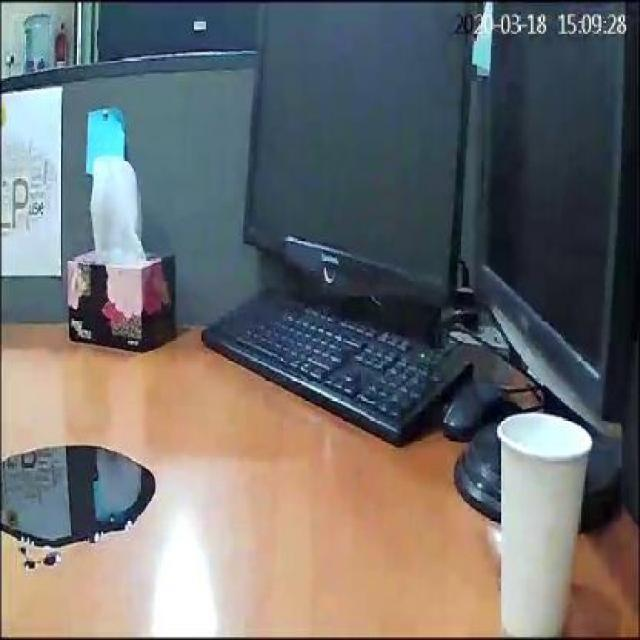spill: (2, 438, 166, 554)
